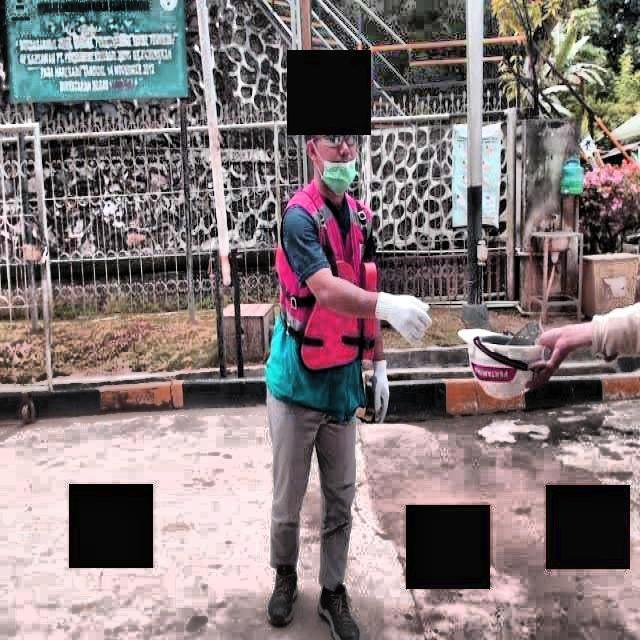safety_helmet: (458, 321, 548, 403)
safety_jacket: (263, 182, 381, 415)
